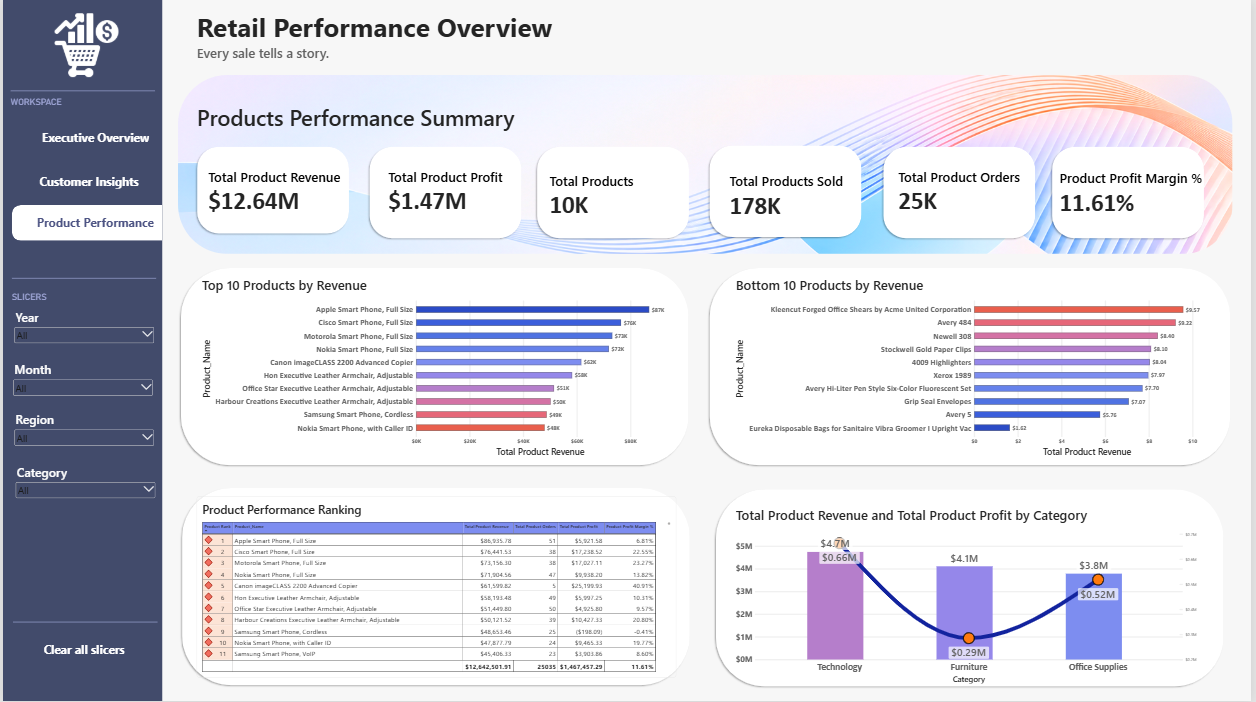

The dashboard page shown, as its layout file describes it:
{"tool":"powerbi","page":{"name":"Page 3","canvas":[3840,2160],"ordinal":2},"visuals":[{"type":"shape","box":[0,0,490,2160],"z":0},{"type":"shape","box":[540,815,1580,625],"z":0,"group":"g3"},{"type":"textbox","title":"Retail Performance Overview","box":[595,25,1110,205],"z":1000},{"type":"shape","box":[2165,815,1620,625],"z":1000,"group":"g3"},{"type":"group","id":"g1","title":"Group 1","box":[24,298,485,502.5],"z":2000},{"type":"shape","box":[543.3,1493.3,1580,625],"z":2000,"group":"g3"},{"type":"shape","box":[25,755,445,205],"z":3000},{"type":"shape","box":[2186.7,1496.7,1580,625],"z":3000,"group":"g3"},{"type":"textbox","title":"SLICERS","box":[25,897.5,270,38],"z":4000},{"type":"shape","box":[22.5,175,445,205],"z":5000},{"type":"slicer","fields":{"Values":["DimDate.Year"]},"box":[30,951.4,438.6,128.6],"z":5001},{"type":"slicer","fields":{"Values":["DimDate.Month"]},"box":[27.5,1110,438.6,128.6],"z":5002},{"type":"slicer","fields":{"Values":["FactSales.Region"]},"box":[32.5,1265,438.6,128.6],"z":5003},{"type":"slicer","fields":{"Values":["DimProduct_Fixed.Category"]},"box":[35,1427.5,438.6,128.6],"z":5004},{"type":"shape","box":[30,1810,445,205],"z":5005},{"type":"actionButton","box":[35,1965,430,50],"z":5006},{"type":"image","box":[540,230,3245,550],"z":5007},{"type":"group","id":"g2","title":"Group 1","box":[590,440,3135,306.7],"z":5008},{"type":"group","id":"g3","title":"Group 2","box":[540,815,3245,1306.7],"z":5009},{"type":"clusteredBarChart","title":"Top 10 Products by Revenue","fields":{"Category":["DimProduct_Fixed.Product_Name"],"Y":["FactSales.Total Product Revenue"]},"box":[596,836,1474,586],"z":5010},{"type":"clusteredBarChart","title":"Bottom 10 Products by Revenue","fields":{"Category":["DimProduct_Fixed.Product_Name"],"Y":["FactSales.Total Product Revenue"]},"box":[2240,833.3,1474,586],"z":5011},{"type":"lineStackedColumnComboChart","fields":{"Category":["DimProduct_Fixed.Category"],"Y":["FactSales.Total Product Revenue"],"Y2":["FactSales.Total Product Profit"]},"box":[2240,1543.3,1486.7,576.7],"z":5012},{"type":"tableEx","title":"Product Performance Ranking","fields":{"Values":["FactSales.Product Rank","DimProduct_Fixed.Product_Name","FactSales.Total Product Revenue","FactSales.Total Product Orders","FactSales.Total Product Profit","FactSales.Product Profit Margin %"]},"box":[595,1527.5,1475,557.5],"z":5013},{"type":"textbox","title":"Products Performance Summary","box":[595,315,1525,130],"z":5014},{"type":"image","box":[85,25,345,225],"z":5015},{"type":"shape","box":[590,445,485,285],"z":17000,"group":"g2"},{"type":"shape","box":[1120,445,485,300],"z":18000,"group":"g2"},{"type":"shape","box":[1635,445,485,300],"z":19000,"group":"g2"},{"type":"shape","box":[2165,440,485,300],"z":20000,"group":"g2"},{"type":"shape","box":[2700,445,485,300],"z":21000,"group":"g2"},{"type":"shape","box":[3220,445,485,300],"z":22000,"group":"g2"},{"type":"cardVisual","fields":{"Data":["FactSales.Product Revenue"]},"box":[615,480,460,230],"z":23000,"group":"g2"},{"type":"cardVisual","fields":{"Data":["FactSales.Product Profit"]},"box":[1170,480,390,230],"z":24000,"group":"g2"},{"type":"cardVisual","fields":{"Data":["FactSales.Total Products"]},"box":[1667.5,490,295,230],"z":25000,"group":"g2"},{"type":"cardVisual","fields":{"Data":["FactSales.Products Sold"]},"box":[2220,466.7,396.7,280],"z":26000,"group":"g2"},{"type":"cardVisual","fields":{"Data":["FactSales.Product Orders"]},"box":[2740,480,430,230],"z":27000,"group":"g2"},{"type":"cardVisual","fields":{"Data":["FactSales.Product Profit Margin %"]},"box":[3235,475,490,245],"z":28000,"group":"g2"},{"type":"shape","box":[29,633,462.5,110],"z":29000,"group":"g1"},{"type":"actionButton","box":[100,380,370,90],"z":30000,"group":"g1"},{"type":"actionButton","box":[45,445,445,230],"z":31000,"group":"g1"},{"type":"actionButton","box":[64,570.5,445,230],"z":32000,"group":"g1"},{"type":"textbox","title":"WORKSPACE","box":[24,298,270,38],"z":33000,"group":"g1"}]}

Visuals, with their boxes on the page's 3840x2160 design canvas (x1, y1, x2, y2). These are canvas units, not pixel positions in the 1256x702 screenshot, which may show the page scaled, cropped or inside an application window:
shape: 0:0:490:2160
shape: 540:815:2120:1440
"Retail Performance Overview" textbox: 595:25:1705:230
shape: 2165:815:3785:1440
"Group 1" group: 24:298:509:800
shape: 543:1493:2123:2118
shape: 25:755:470:960
shape: 2187:1497:3767:2122
"SLICERS" textbox: 25:898:295:936
shape: 22:175:468:380
slicer - DimDate.Year: 30:951:469:1080
slicer - DimDate.Month: 28:1110:466:1239
slicer - FactSales.Region: 32:1265:471:1394
slicer - DimProduct_Fixed.Category: 35:1428:474:1556
shape: 30:1810:475:2015
actionButton: 35:1965:465:2015
image: 540:230:3785:780
"Group 1" group: 590:440:3725:747
"Group 2" group: 540:815:3785:2122
"Top 10 Products by Revenue" clusteredBarChart: 596:836:2070:1422
"Bottom 10 Products by Revenue" clusteredBarChart: 2240:833:3714:1419
lineStackedColumnComboChart - DimProduct_Fixed.Category x FactSales.Total Product Revenue: 2240:1543:3727:2120
"Product Performance Ranking" tableEx: 595:1528:2070:2085
"Products Performance Summary" textbox: 595:315:2120:445
image: 85:25:430:250
shape: 590:445:1075:730
shape: 1120:445:1605:745
shape: 1635:445:2120:745
shape: 2165:440:2650:740
shape: 2700:445:3185:745
shape: 3220:445:3705:745
cardVisual - FactSales.Product Revenue: 615:480:1075:710
cardVisual - FactSales.Product Profit: 1170:480:1560:710
cardVisual - FactSales.Total Products: 1668:490:1962:720
cardVisual - FactSales.Products Sold: 2220:467:2617:747
cardVisual - FactSales.Product Orders: 2740:480:3170:710
cardVisual - FactSales.Product Profit Margin %: 3235:475:3725:720
shape: 29:633:492:743
actionButton: 100:380:470:470
actionButton: 45:445:490:675
actionButton: 64:570:509:800
"WORKSPACE" textbox: 24:298:294:336
